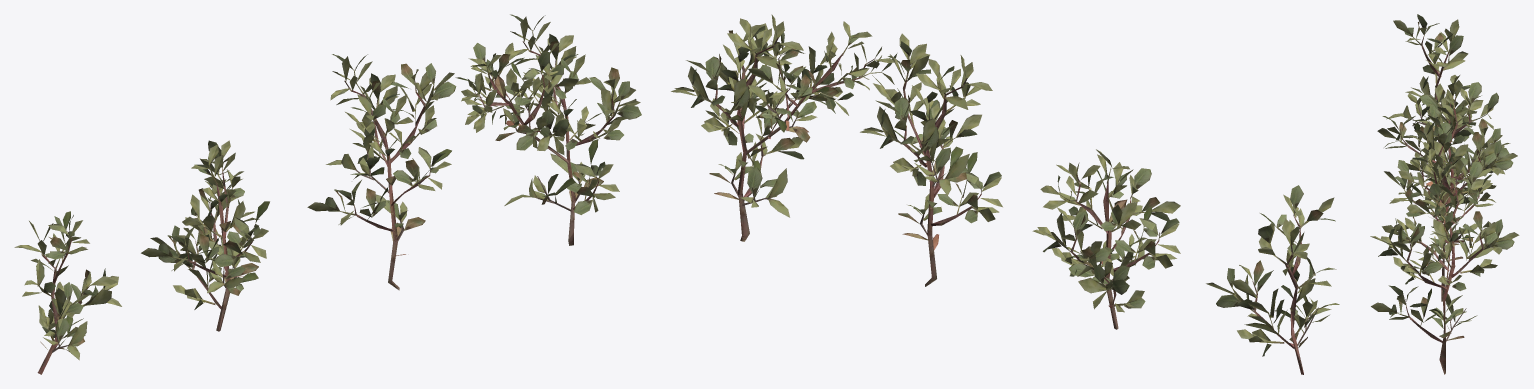
File: shrub-small.glb
3 views of the same model, side by side, from view 1: azimuth 30°, elevation 25°; view 2: azimuth 150°, elevation 25°; view 3: azimuth 270°, elevation 25° (orthographic). The views are drawn at different scales.
Visible parts, largest first — view 1: shrub-small_LOD0; view 2: shrub-small_LOD0; view 3: shrub-small_LOD0.
Part boxes in pixels (<box>): shrub-small_LOD0: <box>14,14,641,374</box>; shrub-small_LOD0: <box>671,14,1339,374</box>; shrub-small_LOD0: <box>1370,14,1519,374</box>.
Size of what is drawn, in the model's own units: 0.583 by 0.2189 by 0.1455.
1 material, 1 textured.
